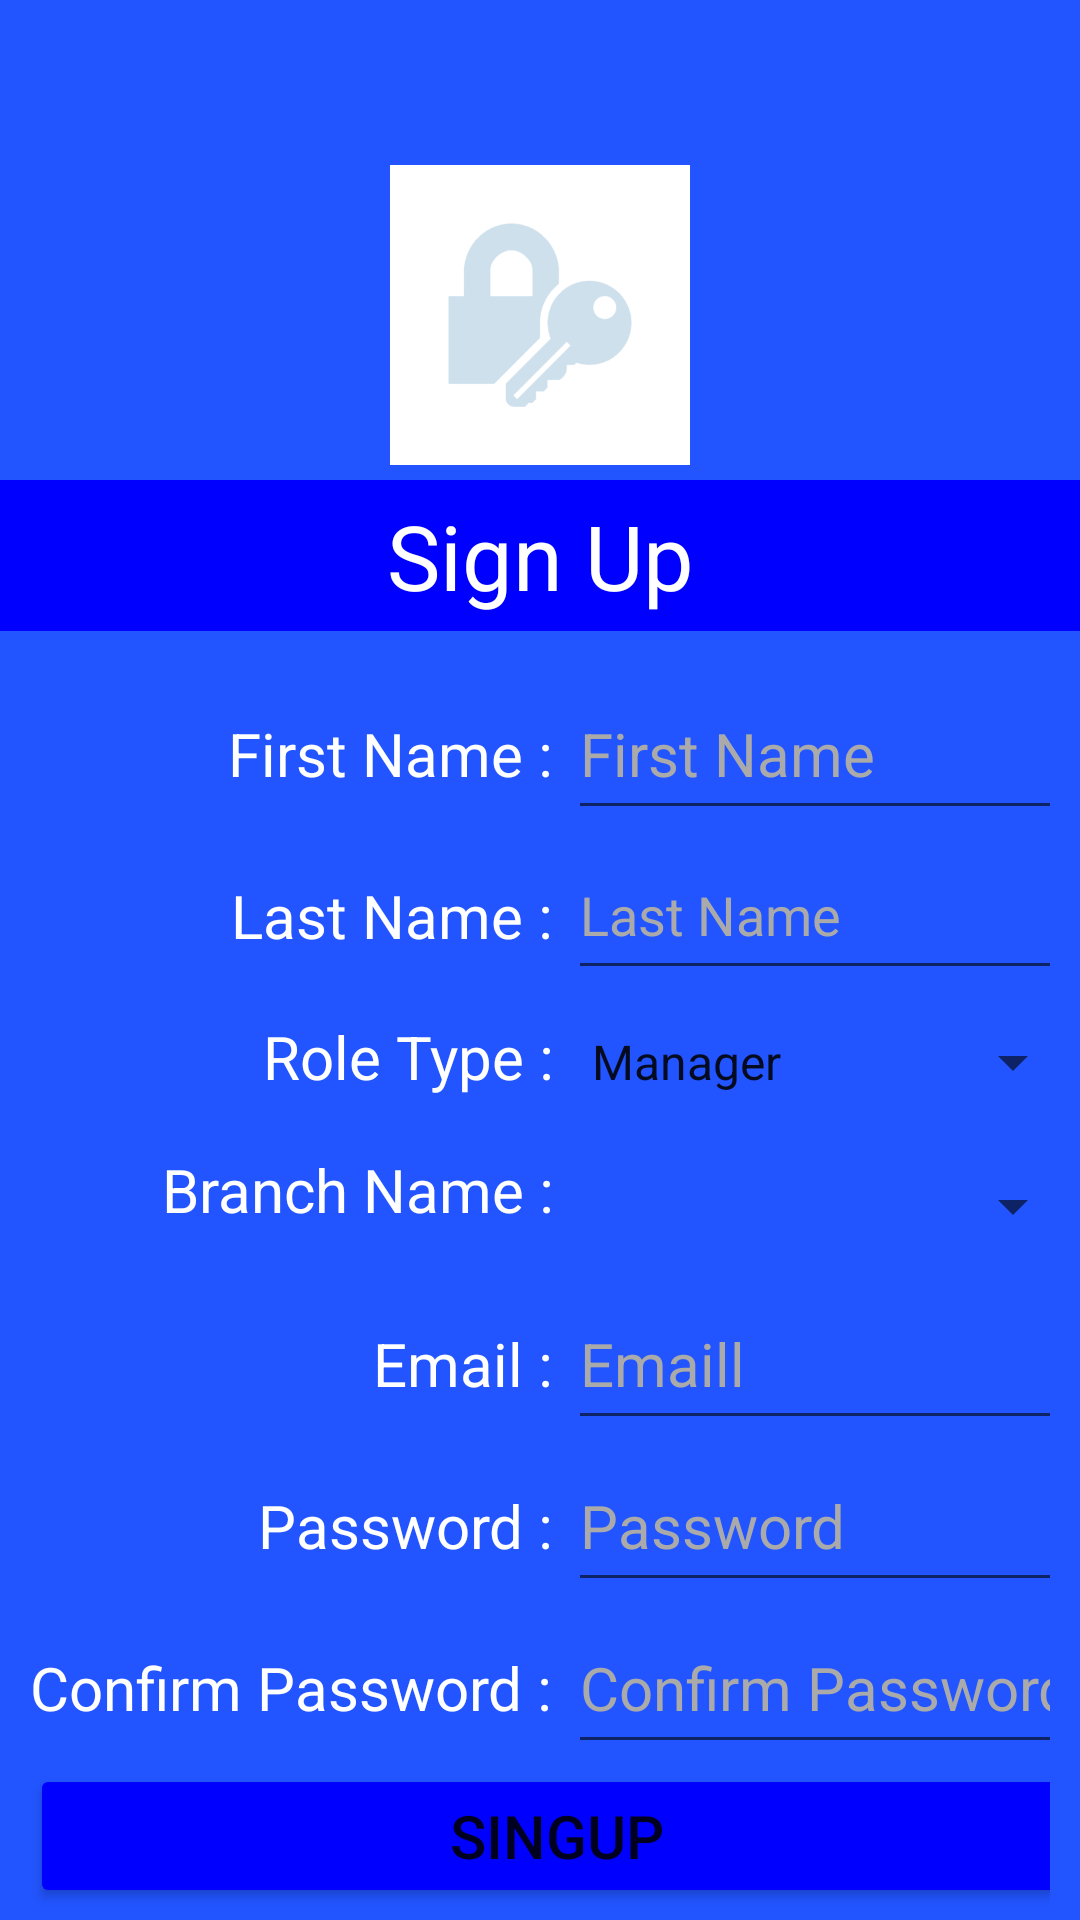

Screen size 1080px x 1920px. Icon name, then its center in pixels as [x,y]:
security: [540,315]
